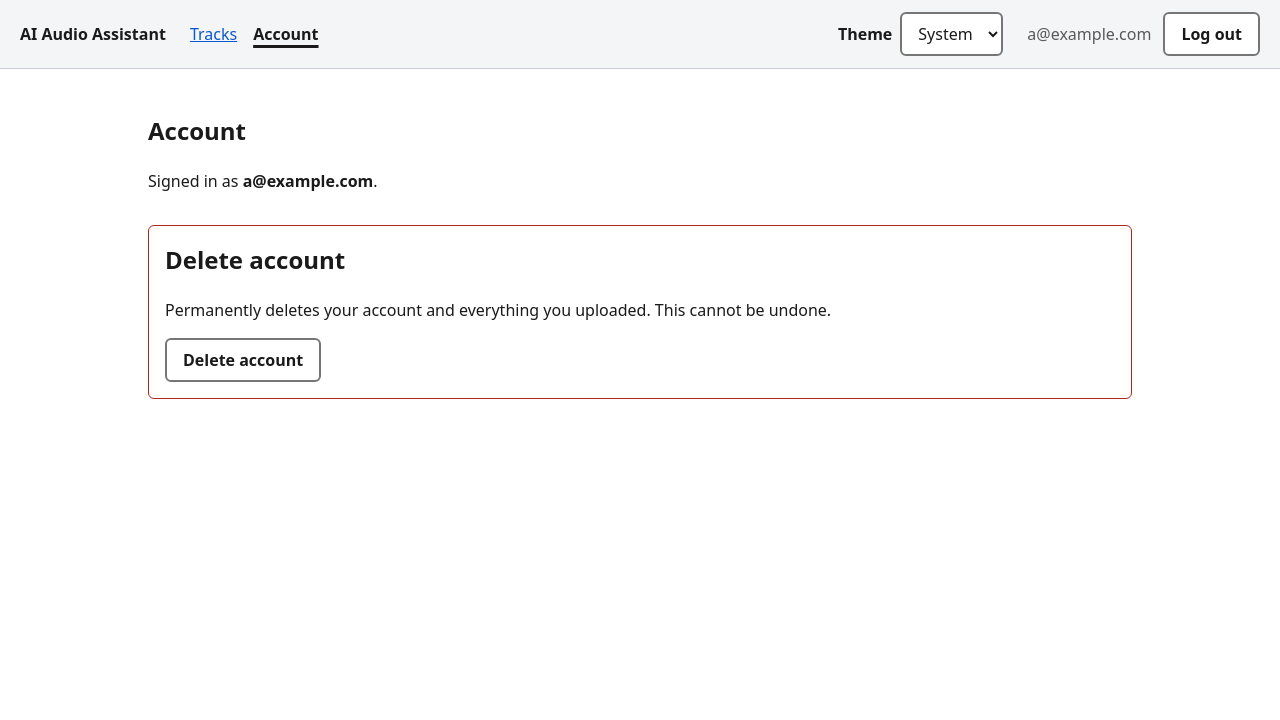
AccountPage › explains a server failure and stays open
Expected: the heading "Account" is shown, top-left (148, 114), bottom-right (246, 147)
Click the button "Delete account". click: [243, 360]
box: top-left (165, 338), bottom-right (321, 382)
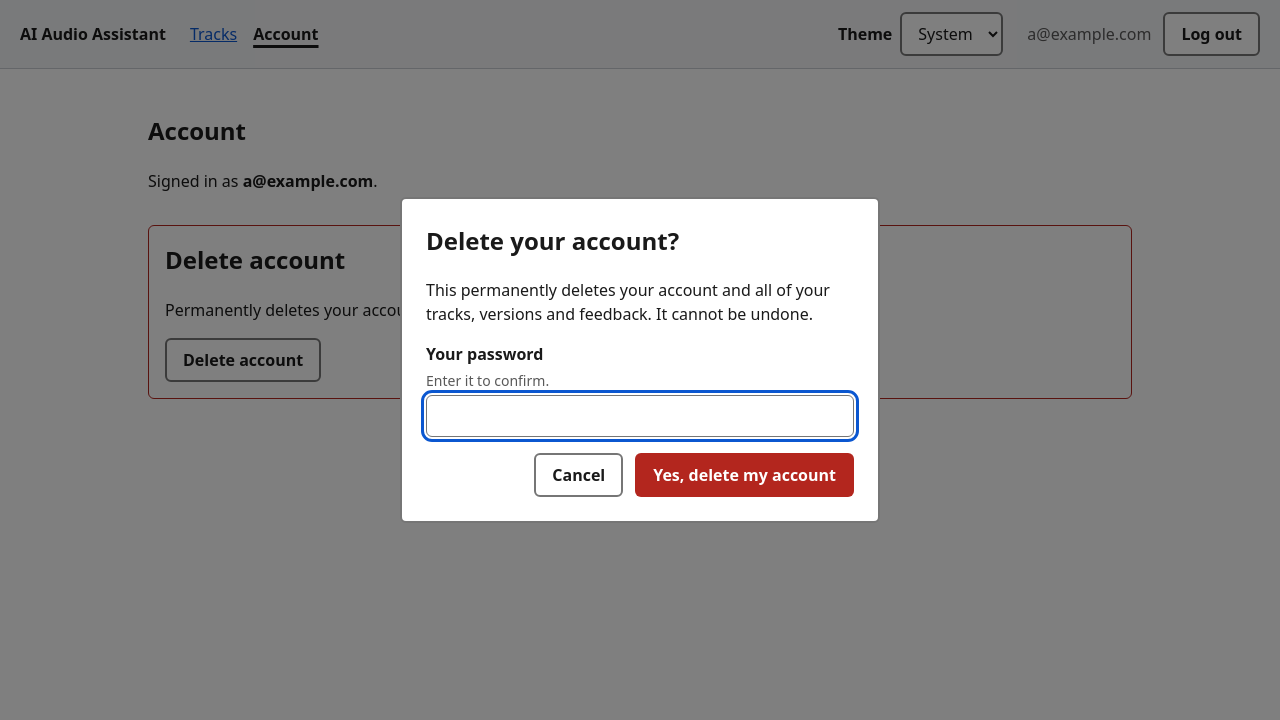
Type "secret-pass" into the password field labelled "Your password". click: [640, 416]
box: top-left (426, 396), bottom-right (854, 438)
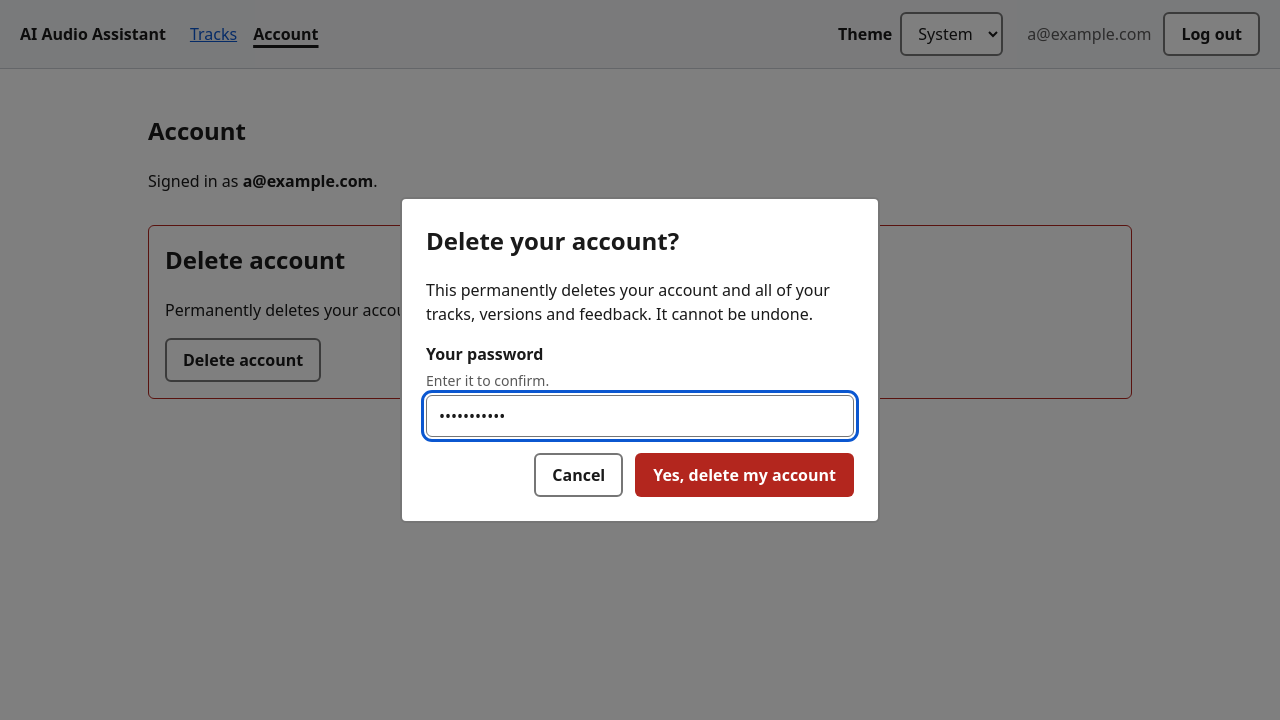
Click the button "Yes, delete my account". click: [745, 476]
box: top-left (635, 454), bottom-right (854, 498)
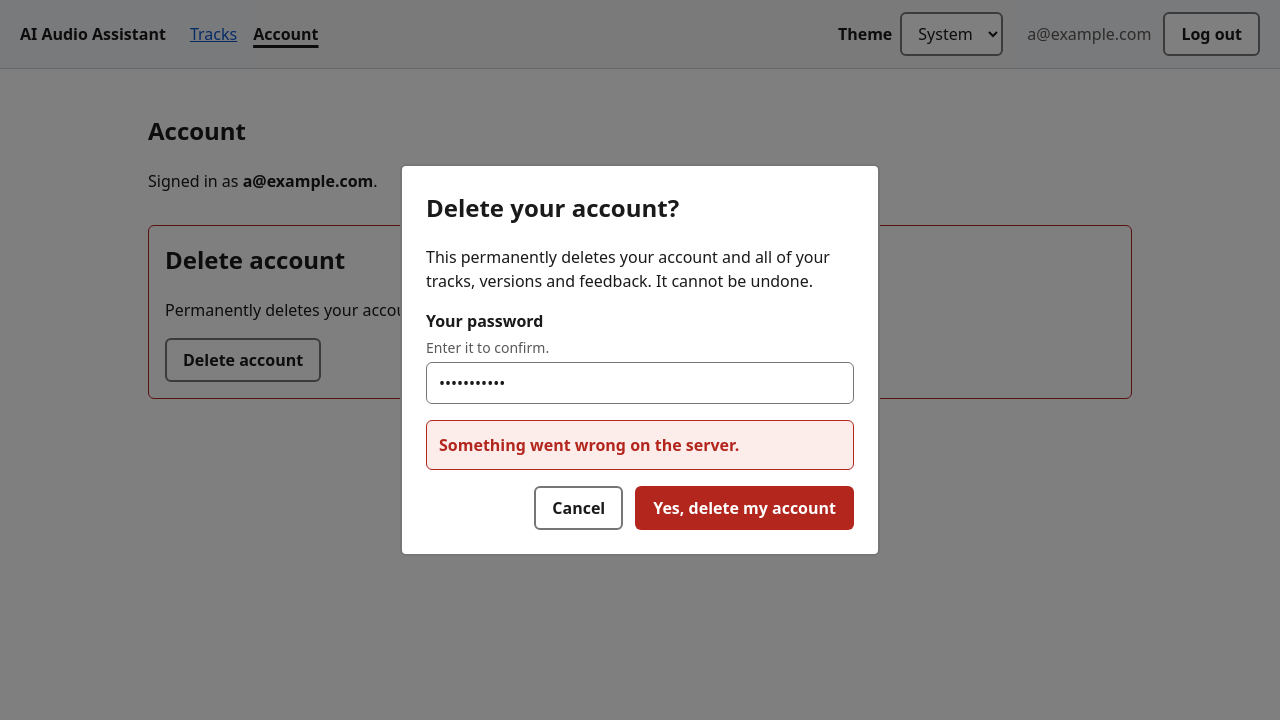
Expected: the message reads "Something went wrong on the server.", top-left (439, 434), bottom-right (739, 456)
